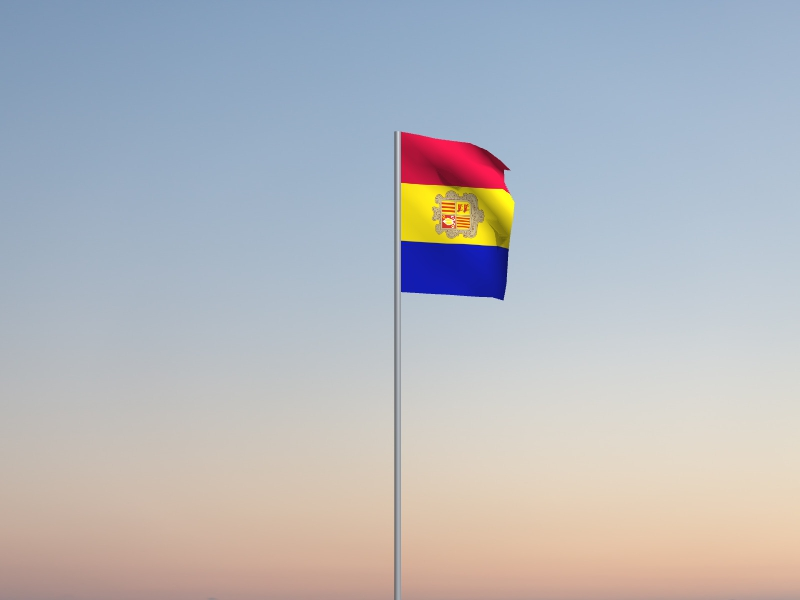ad: (401, 130, 516, 305)
